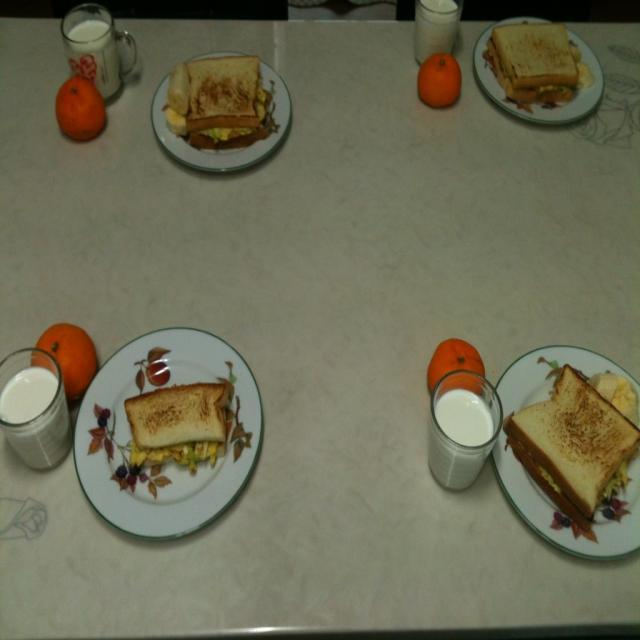Sandwich: (502, 366, 640, 522), (181, 55, 268, 151), (482, 24, 580, 105), (126, 383, 234, 447)
